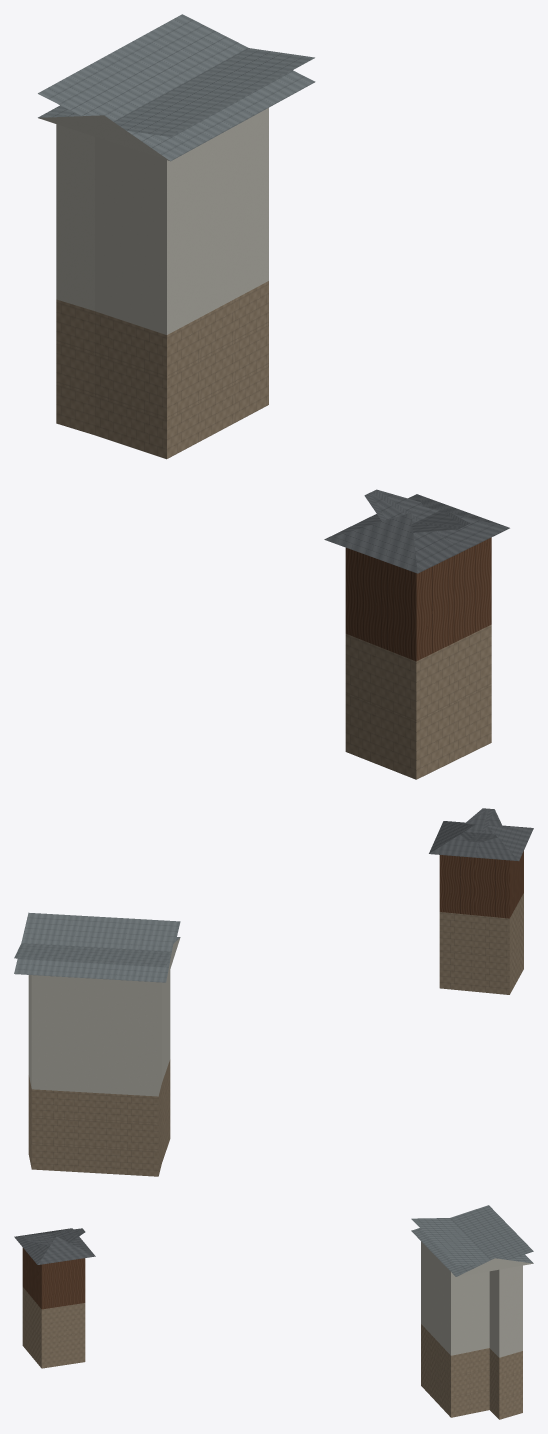
The model's file is bld_c9_25_407.gltf.
3 renders of one model, top to bottom at view 1: azimuth 30°, elevation 25°; view 2: azimuth 150°, elevation 25°; view 3: azimuth 270°, elevation 25°, orthographic. The views are drawn at different scales.
Parts seen in each view (by area): view 1: bld_c9_25_407; view 2: bld_c9_25_407; view 3: bld_c9_25_407.
Boxes of the visible parts, bbox=[...] form: bld_c9_25_407: bbox=[38, 14, 509, 779]; bld_c9_25_407: bbox=[14, 808, 533, 1176]; bld_c9_25_407: bbox=[14, 1205, 533, 1419].
Bounding box in the file's own units: 16.15 × 13.6 × 38.74.
Materials: 6 (6 with a texture image).
